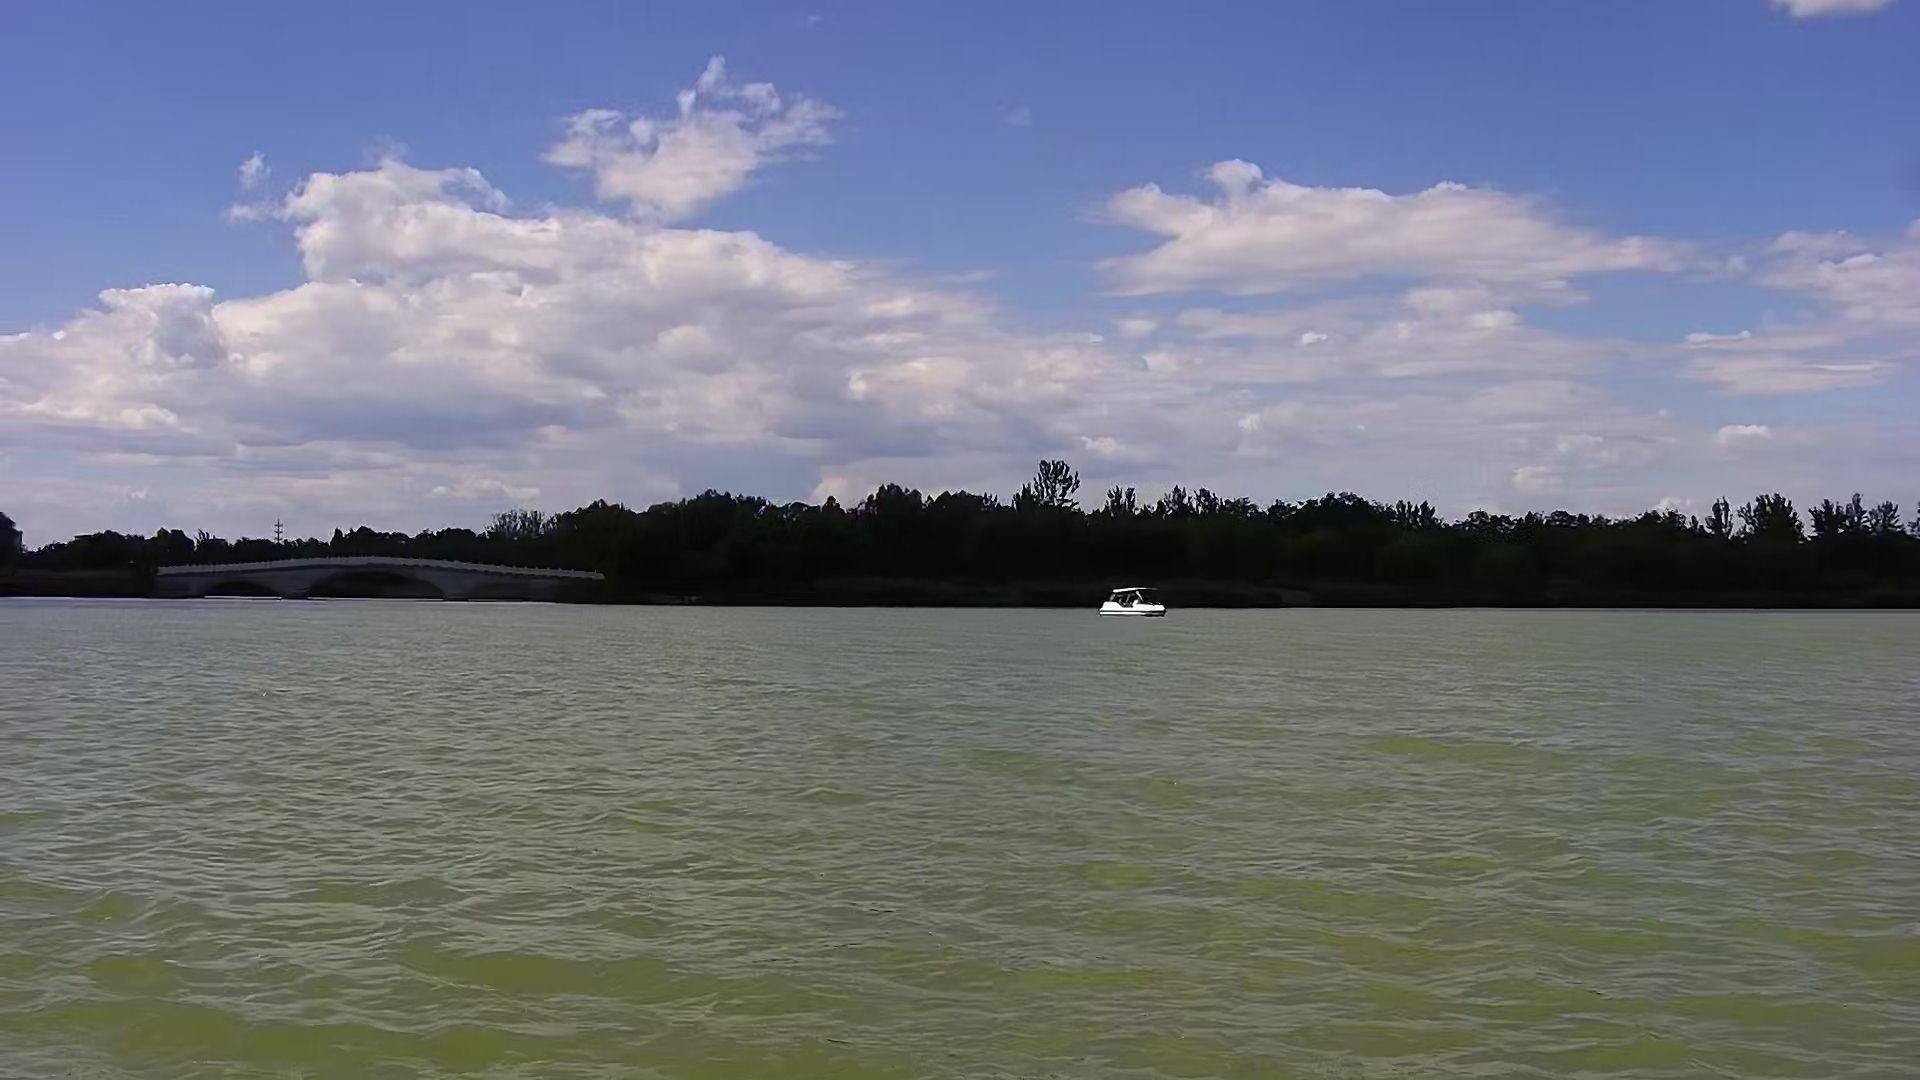boat: (1089, 582, 1168, 622)
bridge: (152, 551, 618, 608)
